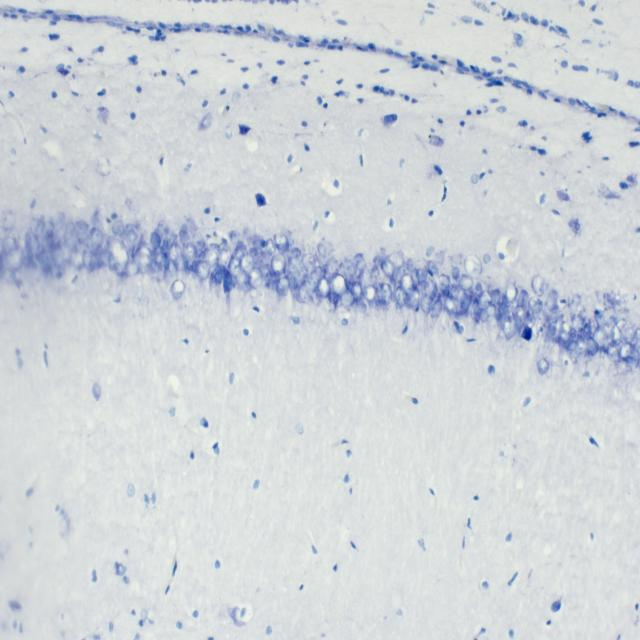neuron: (228, 240, 248, 278), (134, 246, 154, 274), (35, 242, 52, 274), (4, 246, 24, 271), (202, 247, 219, 274), (331, 271, 348, 297), (69, 245, 85, 272), (501, 312, 516, 340), (24, 230, 40, 256), (216, 242, 232, 268), (464, 254, 482, 277), (50, 241, 64, 270), (192, 259, 211, 280), (64, 220, 77, 250), (248, 248, 264, 272), (28, 215, 44, 238), (181, 242, 197, 265), (271, 252, 287, 275), (298, 280, 314, 303), (531, 275, 548, 296), (0, 209, 16, 231), (606, 342, 622, 364), (387, 250, 404, 270), (20, 246, 34, 270), (324, 257, 338, 281), (558, 320, 572, 344), (566, 340, 580, 364), (248, 267, 263, 289), (90, 226, 104, 249), (156, 218, 170, 241), (593, 326, 607, 349), (170, 278, 186, 298), (528, 296, 544, 316), (317, 276, 331, 298), (478, 289, 492, 311), (544, 289, 558, 311), (273, 233, 289, 252), (82, 248, 94, 273), (443, 296, 458, 316), (310, 265, 323, 288), (395, 285, 408, 308), (574, 334, 587, 357), (240, 252, 254, 273), (458, 274, 474, 292), (288, 256, 301, 278), (409, 286, 420, 312), (505, 282, 518, 304), (302, 253, 317, 272), (400, 274, 414, 294), (568, 293, 582, 313), (381, 282, 393, 305), (627, 348, 639, 371), (150, 230, 161, 255), (586, 336, 599, 357), (168, 242, 180, 264), (164, 261, 176, 283), (610, 324, 622, 346), (2, 236, 15, 256), (262, 264, 275, 284), (276, 276, 289, 296), (364, 284, 377, 304), (178, 223, 190, 244), (351, 281, 363, 302), (420, 293, 432, 314), (382, 258, 395, 277), (459, 292, 472, 311), (594, 310, 607, 329), (471, 297, 480, 324), (439, 273, 450, 295), (317, 240, 332, 256), (346, 255, 358, 275), (515, 310, 525, 334), (516, 288, 528, 308), (450, 253, 464, 270), (623, 326, 636, 344), (432, 297, 443, 318), (490, 288, 501, 309), (112, 219, 124, 238), (340, 290, 354, 306), (534, 310, 548, 326), (76, 219, 89, 236), (355, 254, 367, 272), (416, 266, 428, 284), (620, 342, 632, 360), (426, 260, 439, 276), (538, 358, 550, 374), (265, 238, 276, 255), (374, 287, 384, 305), (406, 256, 417, 272), (373, 253, 387, 265)
